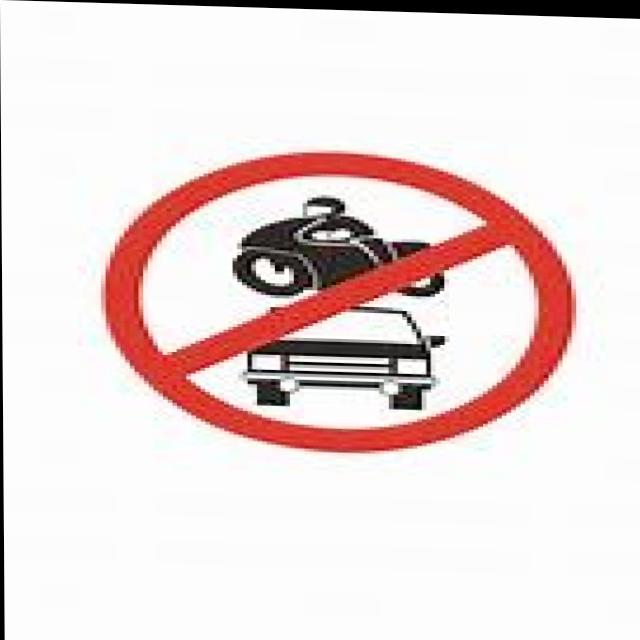ALL_MOTOR_VEHICLE_PROHIBITED: (87, 135, 586, 461)
